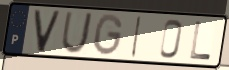0: (159, 18, 184, 60)
G: (92, 12, 125, 58)
I: (129, 14, 144, 59)
L: (188, 20, 213, 62)
U: (59, 11, 94, 56)
V: (33, 8, 63, 54)
